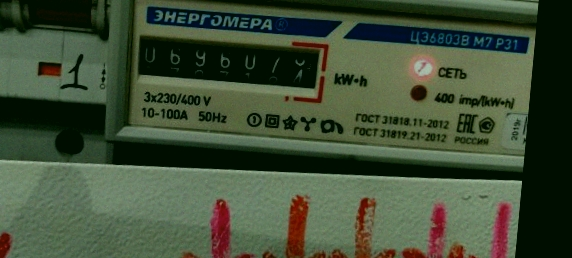0: (241, 48, 258, 71), (141, 41, 157, 64)
4: (290, 65, 305, 87)
6: (166, 43, 182, 65), (216, 47, 232, 68)
7: (266, 52, 283, 74)
9: (191, 45, 206, 67)
screen: (122, 23, 333, 100)
